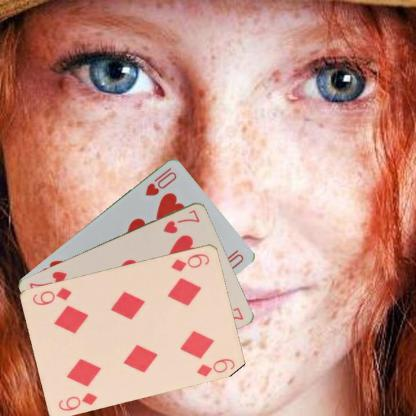10h: (143, 165, 178, 197)
6d: (55, 389, 99, 412), (169, 250, 211, 272)
7h: (161, 206, 201, 235)
